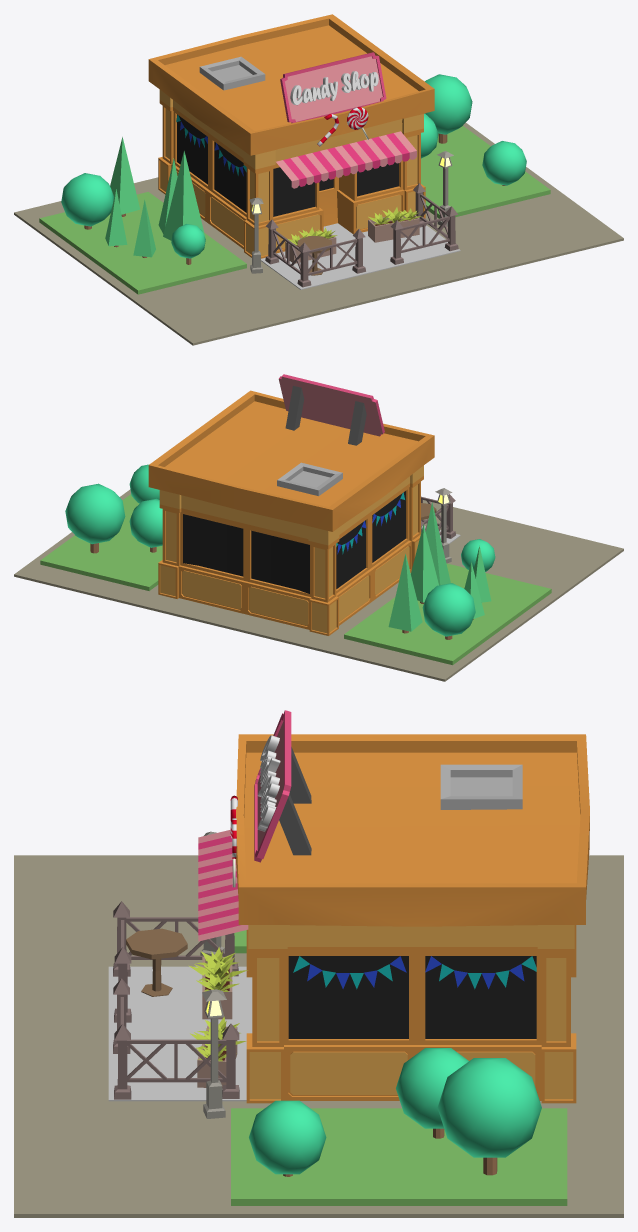
Rendered from candyShop.gltf.
3 views of the same model, one above another, from view 1: azimuth 30°, elevation 25°; view 2: azimuth 150°, elevation 25°; view 3: azimuth 270°, elevation 25° (orthographic). The views are drawn at different scales.
Visible parts, largest first — view 1: Cube_3, Plane_2, Cube.003_14, Icosphere_25, Cube.004_15, Plane.001_4, Plane.002_5, Pine Tree_10, Pine Tree.001_11, Cube.002_7, Text.001_28, Pine Tree.002_12 (+9 smaller); view 2: Cube_3, Plane_2, Cube.003_14, Icosphere_25, Plane.001_4, Pine Tree.002_12, Cube.002_7, Pine Tree.003_13, Cube.001_6, Pine Tree.001_11, Pine Tree_10, Cube.013_24; view 3: Cube_3, Plane_2, Cube.003_14, Icosphere_25, Cube.004_15, Plane.002_5, Cube.002_7, Cube.007_18, Plane.001_4, Plane.003_27, Cube.013_24, Cube.014_26 (+6 smaller).
Part boxes in pixels (box(x1,y1,x2,y2)): Cube_3: box(148, 14, 434, 258); Plane_2: box(14, 122, 623, 345); Cube.003_14: box(39, 126, 550, 294); Icosphere_25: box(61, 74, 526, 264); Cube.004_15: box(261, 223, 460, 289); Plane.001_4: box(280, 52, 386, 123); Plane.002_5: box(276, 131, 416, 188); Pine Tree_10: box(163, 150, 205, 240); Pine Tree.001_11: box(105, 189, 155, 257); Cube.002_7: box(199, 56, 265, 90); Text.001_28: box(290, 71, 378, 105); Pine Tree.002_12: box(110, 137, 140, 216); Cube_3: box(148, 390, 434, 635); Plane_2: box(14, 489, 623, 681); Cube.003_14: box(40, 494, 551, 665); Icosphere_25: box(65, 464, 495, 639); Plane.001_4: box(278, 374, 384, 436); Pine Tree.002_12: box(388, 554, 422, 633); Cube.002_7: box(277, 462, 342, 496); Pine Tree.003_13: box(411, 524, 438, 603); Cube.001_6: box(285, 386, 366, 445); Pine Tree.001_11: box(464, 546, 491, 619); Pine Tree_10: box(425, 502, 450, 585); Cube.013_24: box(435, 488, 452, 563); Cube_3: box(236, 734, 589, 1103); Plane_2: box(14, 855, 623, 1217); Cube.003_14: box(231, 930, 567, 1205); Icosphere_25: box(249, 1048, 541, 1176); Cube.004_15: box(108, 966, 309, 1101); Plane.002_5: box(198, 829, 248, 941); Cube.002_7: box(440, 764, 522, 809); Cube.007_18: box(127, 1023, 239, 1098); Plane.001_4: box(254, 710, 291, 862); Plane.003_27: box(293, 956, 536, 989); Cube.013_24: box(200, 831, 226, 1118); Cube.014_26: box(126, 928, 187, 996).
Size of the model in its own units: 2 by 0.765 by 1.44.
